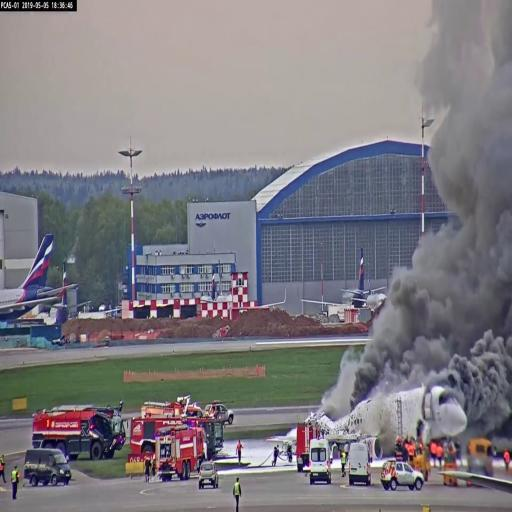smoke: (426, 0, 509, 371), (394, 242, 460, 381), (460, 328, 512, 428), (355, 321, 396, 409)
